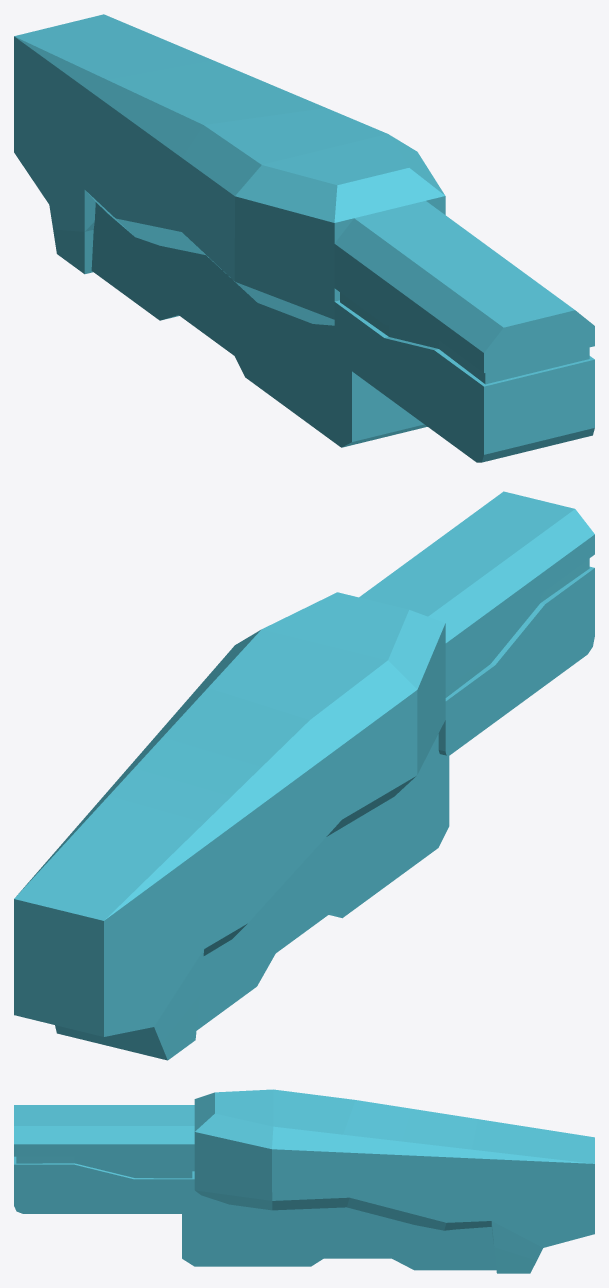
The model's file is part_body_02.fbx.
3 renders of one model, top to bottom at view 1: azimuth 30°, elevation 25°; view 2: azimuth 150°, elevation 25°; view 3: azimuth 270°, elevation 25°, orthographic. The views are drawn at different scales.
Visible parts, largest first — view 1: part_body_02; view 2: part_body_02; view 3: part_body_02.
Part boxes in pixels (box(x1,y1,x2,y2)): part_body_02: box(14, 14, 594, 462); part_body_02: box(14, 491, 594, 1060); part_body_02: box(14, 1089, 594, 1273).
Size of the model in its own units: 9.87 by 13.18 by 45.
